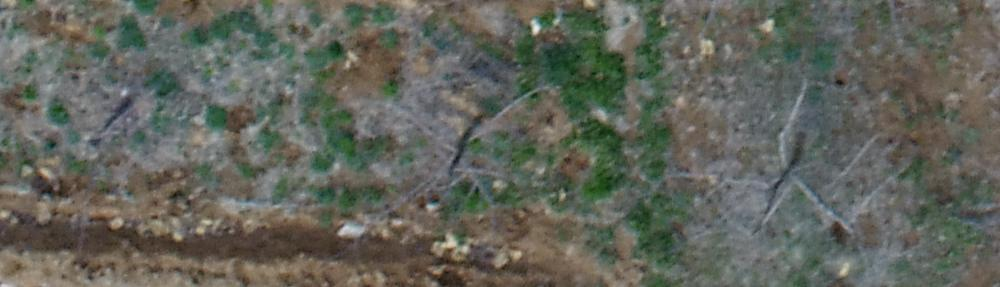apple: (669, 83, 925, 254), (363, 66, 582, 228)
